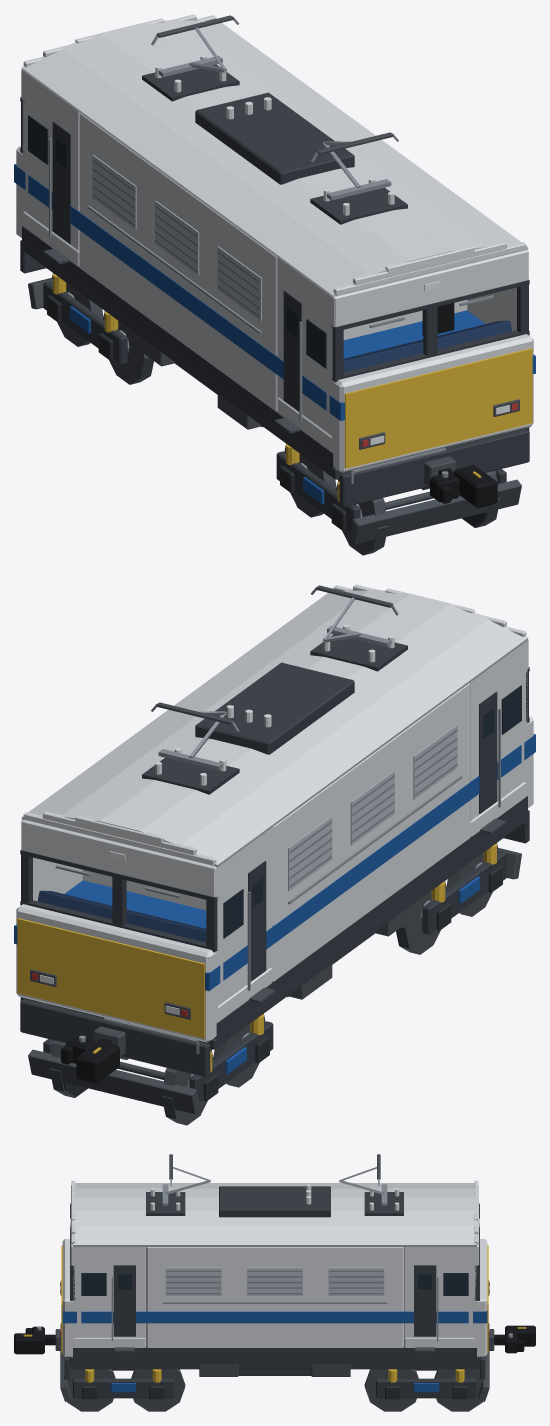
File: locomotive_electrique.glb
3 renders of one model, top to bottom at view 1: azimuth 30°, elevation 25°; view 2: azimuth 150°, elevation 25°; view 3: azimuth 270°, elevation 25°, orthographic. The views are drawn at different scales.
Visible parts, largest first — view 1: pieces_moderne.002, pieces_moderne_sombre.002, pieces_jaune.002, pieces_moderne_bleu.002, pieces_acier_sombre.002, pieces_acier.002, pieces_gris_clair.002, pieces_panneau.002, pieces_verre_sombre.002, attelage_av_noir.002, roues_av_acier_sombre.002, pieces_fonte.002 (+4 smaller); view 2: pieces_moderne.002, pieces_moderne_sombre.002, pieces_jaune.002, pieces_moderne_bleu.002, pieces_acier_sombre.002, pieces_acier.002, pieces_gris_clair.002, pieces_panneau.002, pieces_verre_sombre.002, attelage_ar_noir.002, roues_ar_acier_sombre.002, pieces_fonte.002 (+4 smaller); view 3: pieces_moderne.002, pieces_moderne_sombre.002, pieces_moderne_bleu.002, pieces_gris_clair.002, pieces_acier.002, pieces_acier_sombre.002, pieces_verre_sombre.002, roues_ar2_acier_sombre.002, roues_av2_acier_sombre.002, pieces_jaune.002, roues_ar_acier_sombre.002, roues_av_acier_sombre.002 (+4 smaller).
Part boxes in pixels (x1,y1,x2,y2): pieces_moderne.002: (16, 14, 533, 472); pieces_moderne_sombre.002: (20, 64, 529, 532); pieces_jaune.002: (53, 273, 532, 502); pieces_moderne_bleu.002: (14, 164, 535, 504); pieces_acier_sombre.002: (28, 248, 521, 544); pieces_acier.002: (49, 55, 494, 484); pieces_gris_clair.002: (92, 155, 261, 321); pieces_panneau.002: (343, 320, 511, 372); pieces_verre_sombre.002: (28, 115, 326, 368); attelage_av_noir.002: (430, 465, 497, 507); roues_av_acier_sombre.002: (336, 470, 500, 555); pieces_fonte.002: (47, 295, 346, 531); pieces_moderne.002: (16, 584, 533, 1042); pieces_moderne_sombre.002: (20, 634, 529, 1102); pieces_jaune.002: (17, 843, 496, 1072); pieces_moderne_bleu.002: (14, 734, 535, 1074); pieces_acier_sombre.002: (28, 818, 521, 1114); pieces_acier.002: (55, 625, 500, 1054); pieces_gris_clair.002: (288, 725, 457, 891); pieces_panneau.002: (38, 890, 206, 942); pieces_verre_sombre.002: (223, 685, 521, 938); attelage_ar_noir.002: (61, 1036, 119, 1083); roues_ar_acier_sombre.002: (49, 1040, 213, 1125); pieces_fonte.002: (203, 865, 502, 1101); pieces_moderne.002: (62, 1180, 487, 1356); pieces_moderne_sombre.002: (64, 1186, 485, 1398); pieces_moderne_bleu.002: (62, 1311, 487, 1392); pieces_gris_clair.002: (165, 1267, 384, 1295); pieces_acier.002: (111, 1184, 438, 1341); pieces_acier_sombre.002: (60, 1280, 489, 1401); pieces_verre_sombre.002: (81, 1273, 468, 1295); roues_ar2_acier_sombre.002: (364, 1369, 418, 1411); roues_av2_acier_sombre.002: (131, 1369, 185, 1411); pieces_jaune.002: (61, 1245, 488, 1382); roues_ar_acier_sombre.002: (434, 1369, 485, 1411); roues_av_acier_sombre.002: (64, 1369, 115, 1411).
Size of the model in its own units: 2.89 by 4.45 by 9.3.
